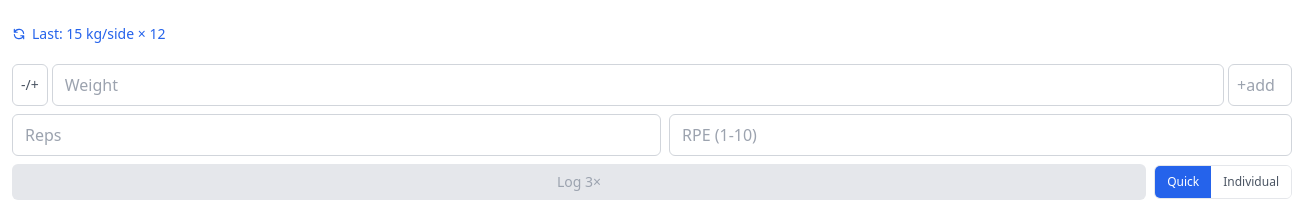
Test: SetLogger › preset from last › fills bilateral weight as 2x notation
Click the button with aria-label "Preset from last session". click: click(49, 34)
box: left=12, top=12, right=1292, bottom=56
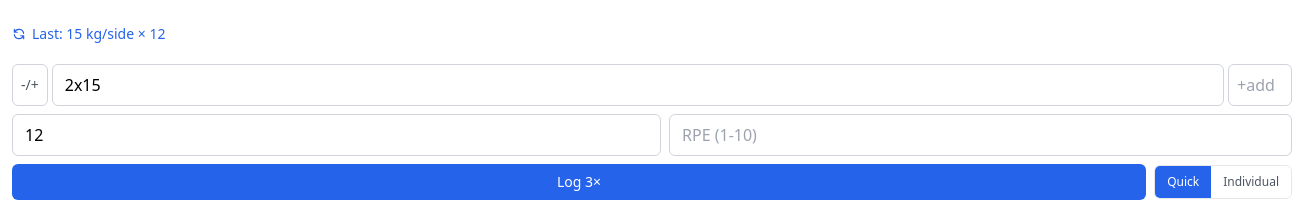
Now the field with placeholder "Weight" holds "2x15", box left=52, top=64, right=1224, bottom=106
